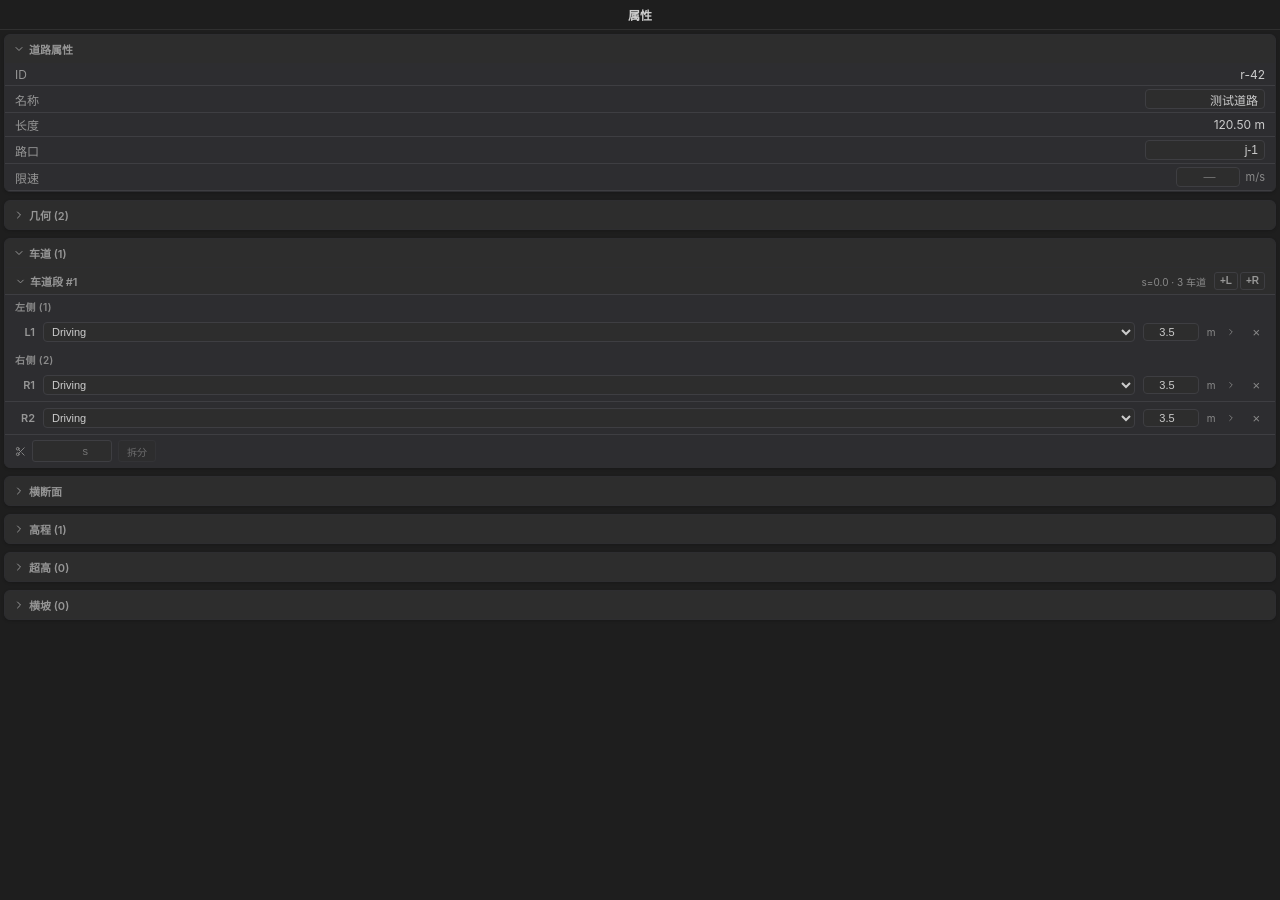
Test: PropertyPanel › shows road properties when a road is selected
Check: the text "道路属性" is shown, box [29,41,73,57]
Check: the text "r-42" is shown, box [1240,67,1265,82]
Geometry card is collapsed by default — expand it to reveal geometry items
Step 1. Click the text "几何 (2)" → (49, 215), box [29,207,69,223]
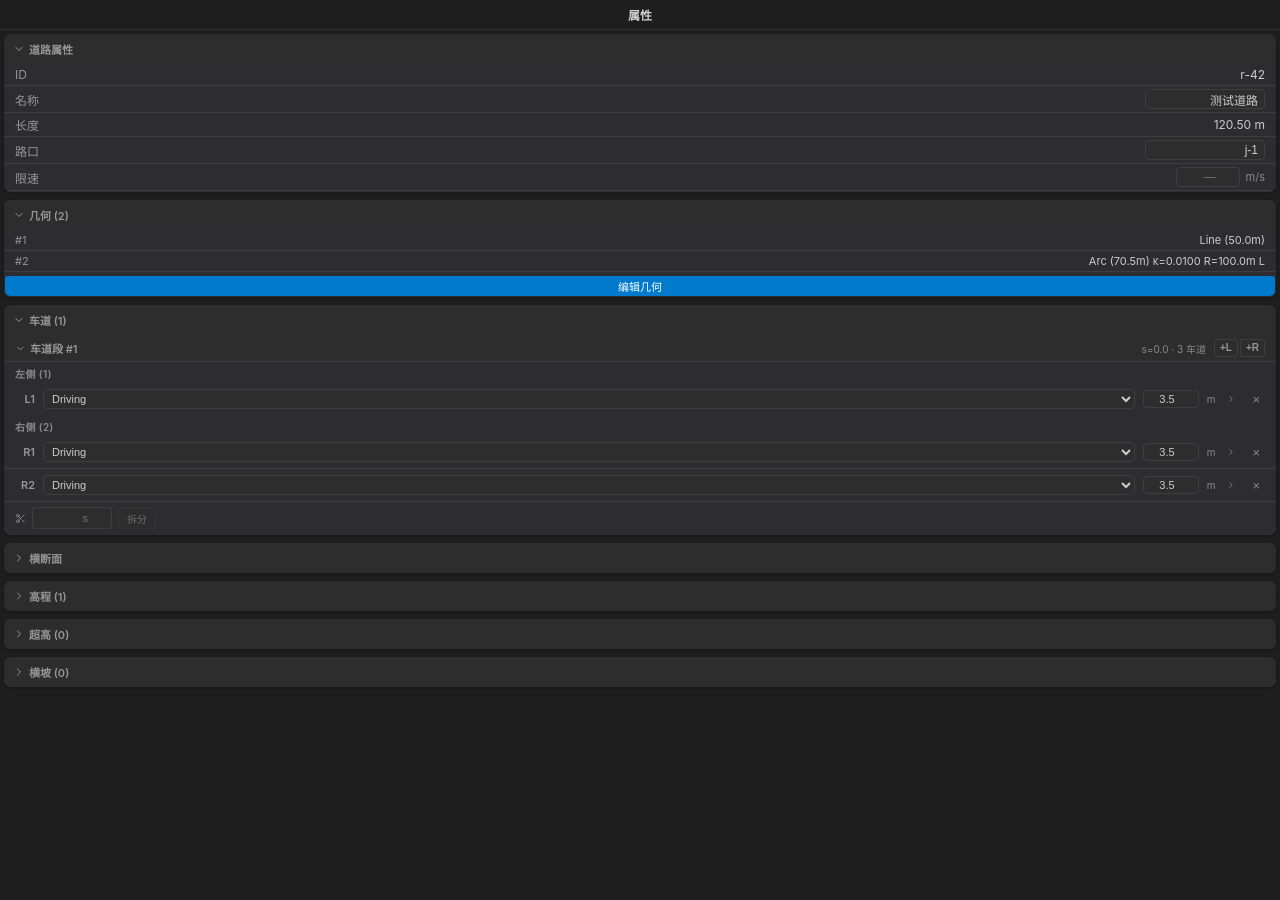
Check: the text "车道 (1)" is shown, box [29,312,67,328]
Check: the text "Line (50.0m)" is shown, box [1199,233,1265,247]
Check: the text "Arc (70.5m)" is shown, box [1089,254,1265,268]
